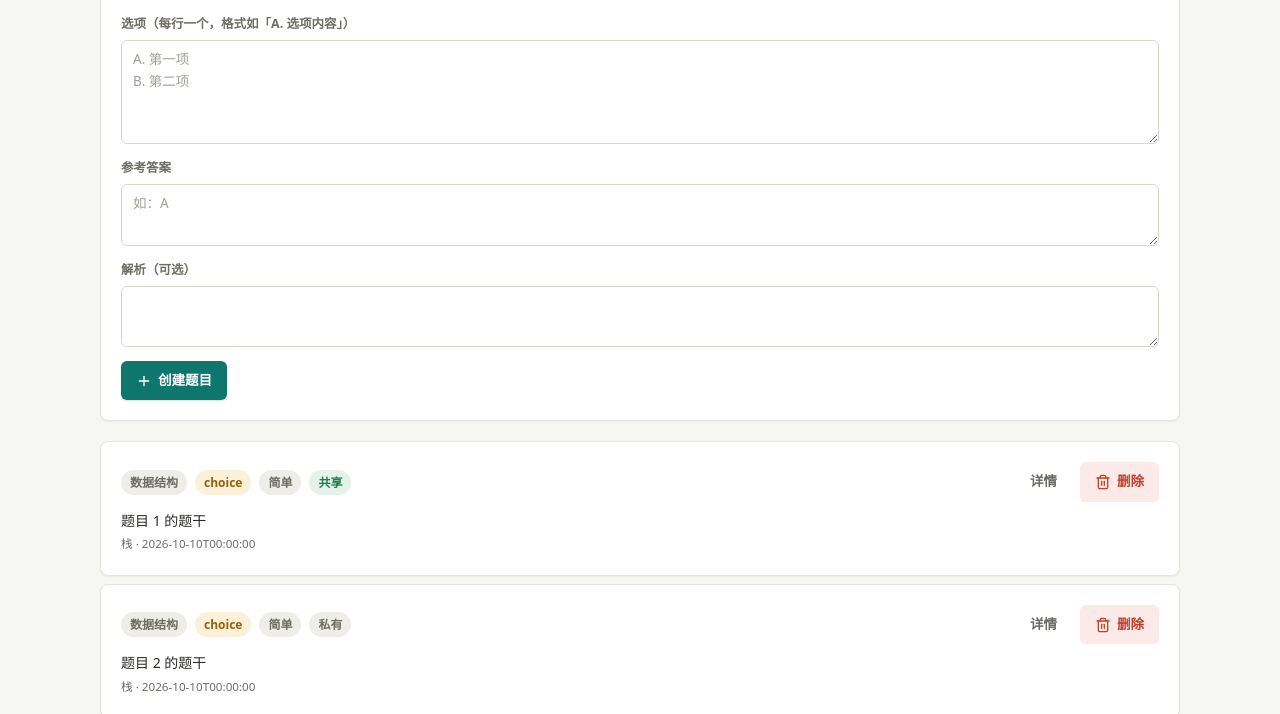
it: AdminQuestionsView › 点击详情懒加载题目详情（含关联知识点）
(page scrolled)
Click the 1st button "详情": (1044, 482) [1015,462,1072,502]
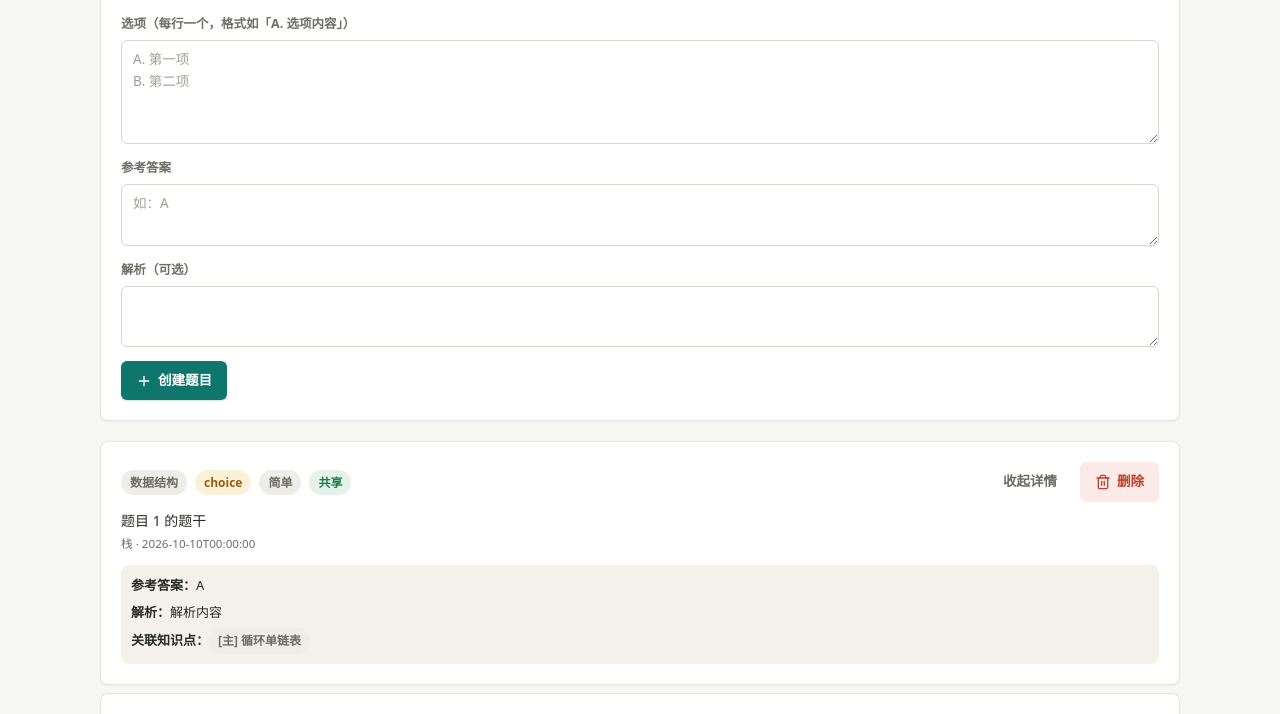
Expected: the text "参考答案：A" is shown, [131,576,204,594]
Expected: the text "循环单链表" is shown, [218,632,301,649]
